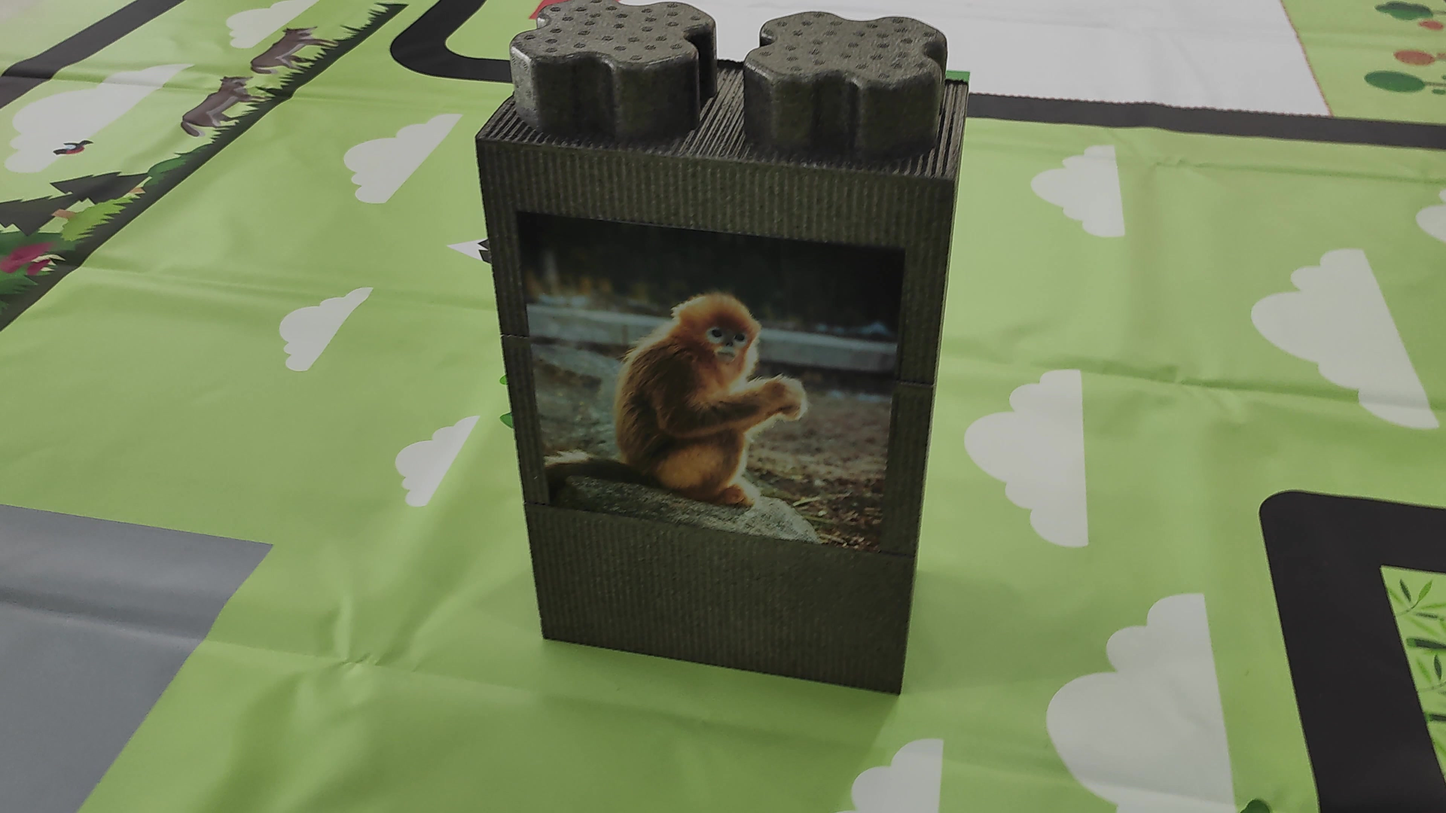monkey: (561, 264, 806, 512)
